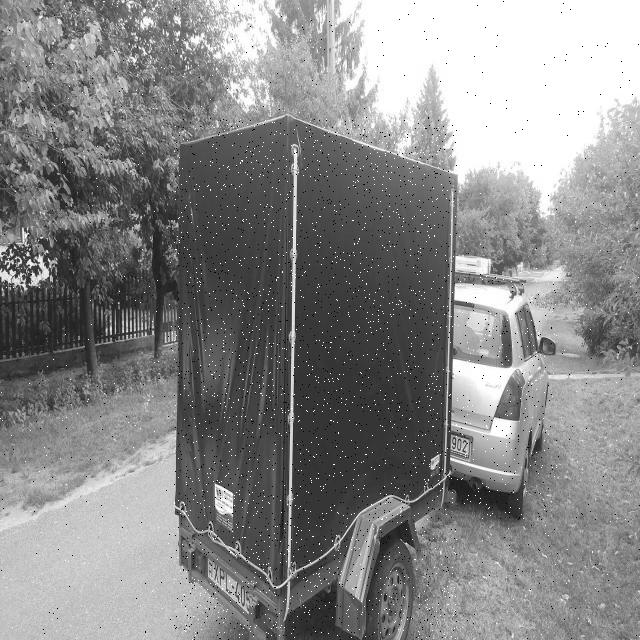Box Truck: (174, 117, 457, 640)
Hatchback: (452, 274, 557, 520)
